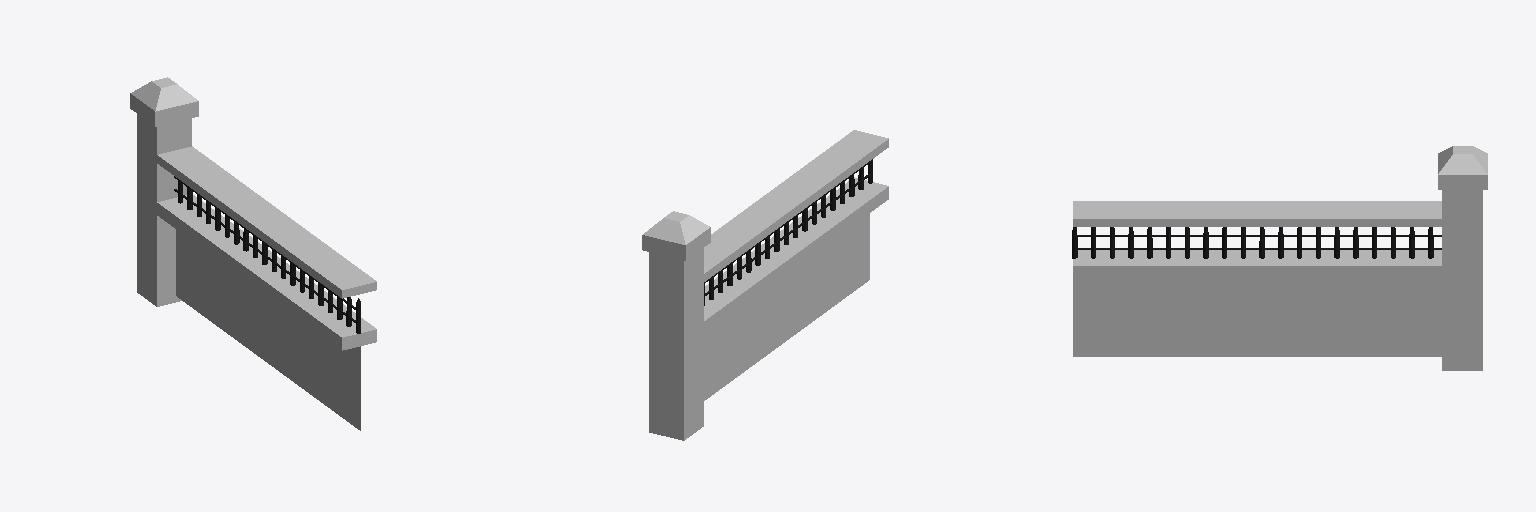
The model's file is fence.obj.
3 views of the same model, side by side, from view 1: azimuth 30°, elevation 25°; view 2: azimuth 150°, elevation 25°; view 3: azimuth 270°, elevation 25° (orthographic).
Parts seen in each view (by area): view 1: Plane.008; view 2: Plane.008; view 3: Plane.008.
Part boxes in pixels (x1,y1,x2,y2): Plane.008: (130,77,376,430); Plane.008: (642,130,888,440); Plane.008: (1072,146,1487,370).
Size of the model in its own units: 0.766 by 3.59 by 6.36.